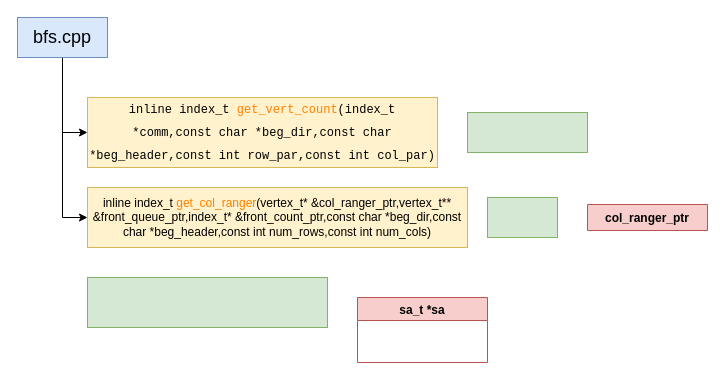
The diagram is 725 pixels wide and 380 high, and some of its shapes have lost their labels. Here are the shapes that lost their labels. From the top down, the centre of each, then its label:
the point at 527,132: 计算顶点数vert_count
the point at 522,217: 读取列分块范围
the point at 207,302: 创建一个vert_cont(*int)大小的内存映射，并将根节点置为0，其余顶点全置为255
